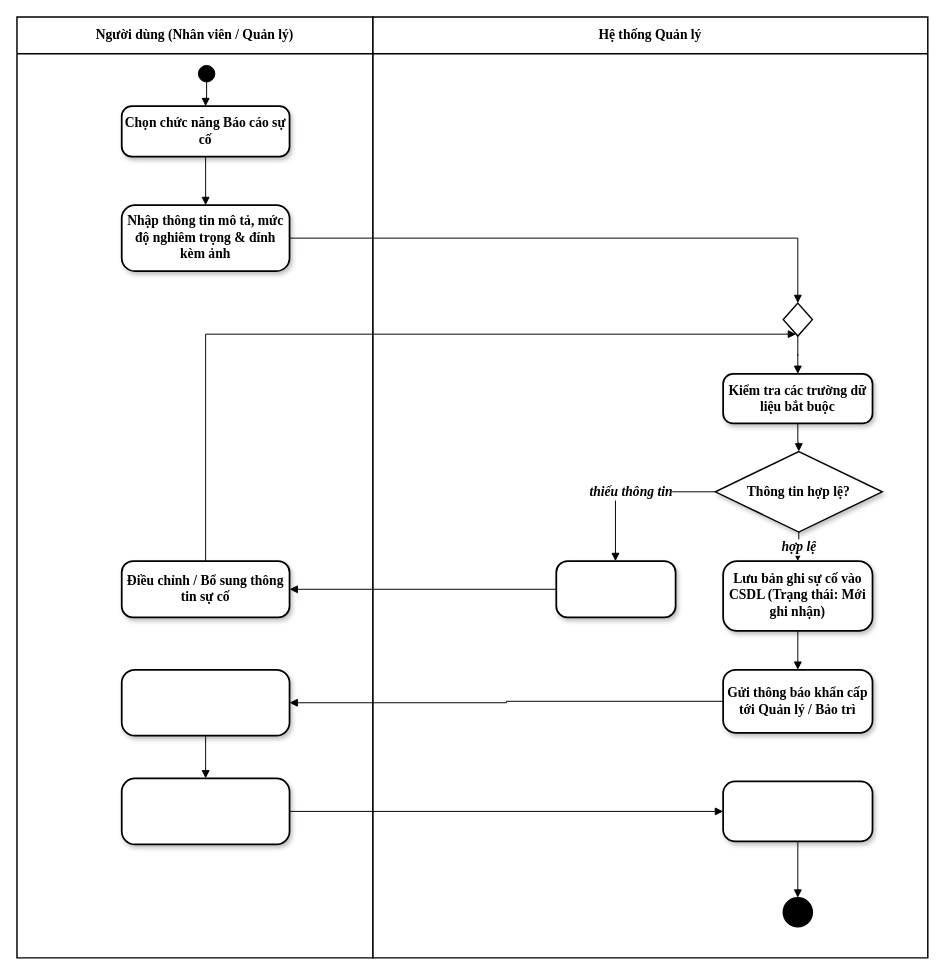
The diagram is 946 pixels wide and 976 high, and some of its shapes have lost their labels. The centre of each missing label's shape, as x and y in pixels:
Cập nhật tiến độ và phương án xử lý sự cố: point (206, 812)
Cập nhật trạng thái sự cố sang "Đã giải quyết": point (798, 812)
Hiển thị thông báo yêu cầu nhập bổ sung: point (616, 590)
Quản lý tiếp nhận thông báo & kiểm tra thực địa: point (206, 704)
